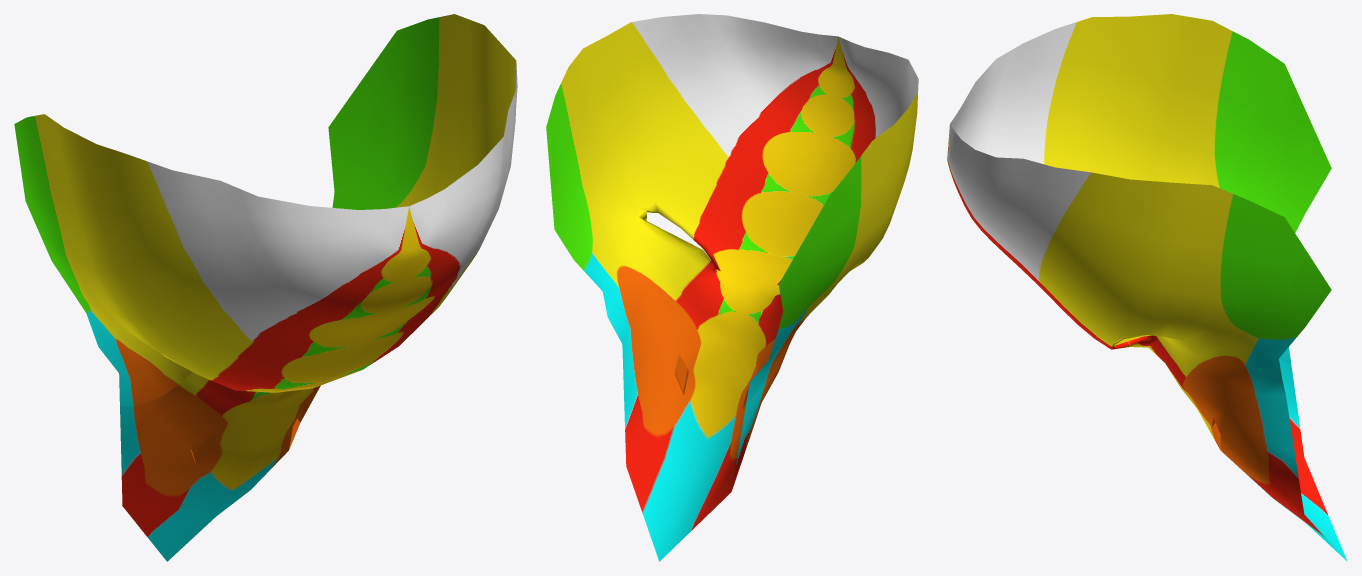
The model's file is DashAnimation2.fbx.
3 renders of one model, left to right at view 1: azimuth 30°, elevation 25°; view 2: azimuth 150°, elevation 25°; view 3: azimuth 270°, elevation 25°, orthographic. The views are drawn at different scales.
Parts seen in each view (by area): view 1: pasted__pSphere1; view 2: pasted__pSphere1; view 3: pasted__pSphere1.
Boxes of the visible parts, x1,y1,x2,y2 form: pasted__pSphere1: (14,14,517,561); pasted__pSphere1: (546,14,918,561); pasted__pSphere1: (947,14,1347,561).
Size of the model in its own units: 4.86 by 6.28 by 4.88.
